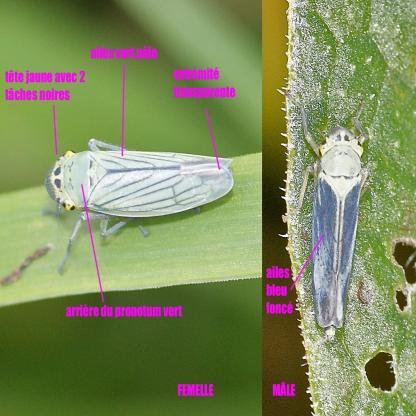Green-Leafhopper: (45, 134, 239, 276), (289, 88, 377, 343)
